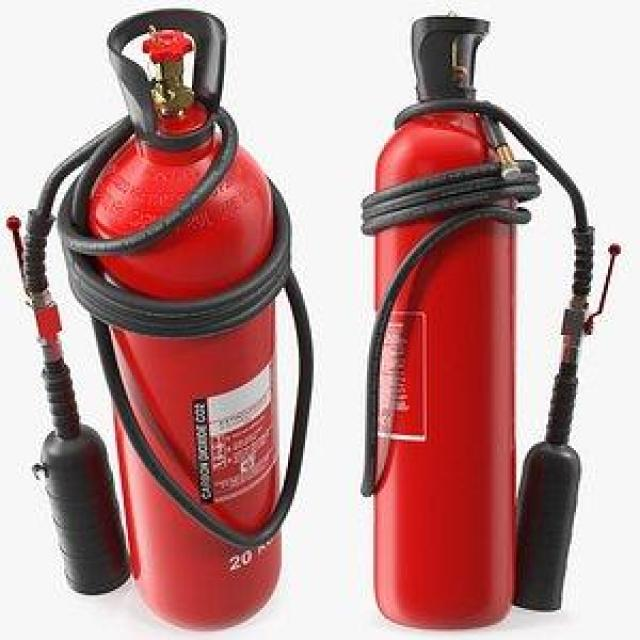fire_extinguisher: (0, 0, 318, 634), (352, 4, 621, 638)
